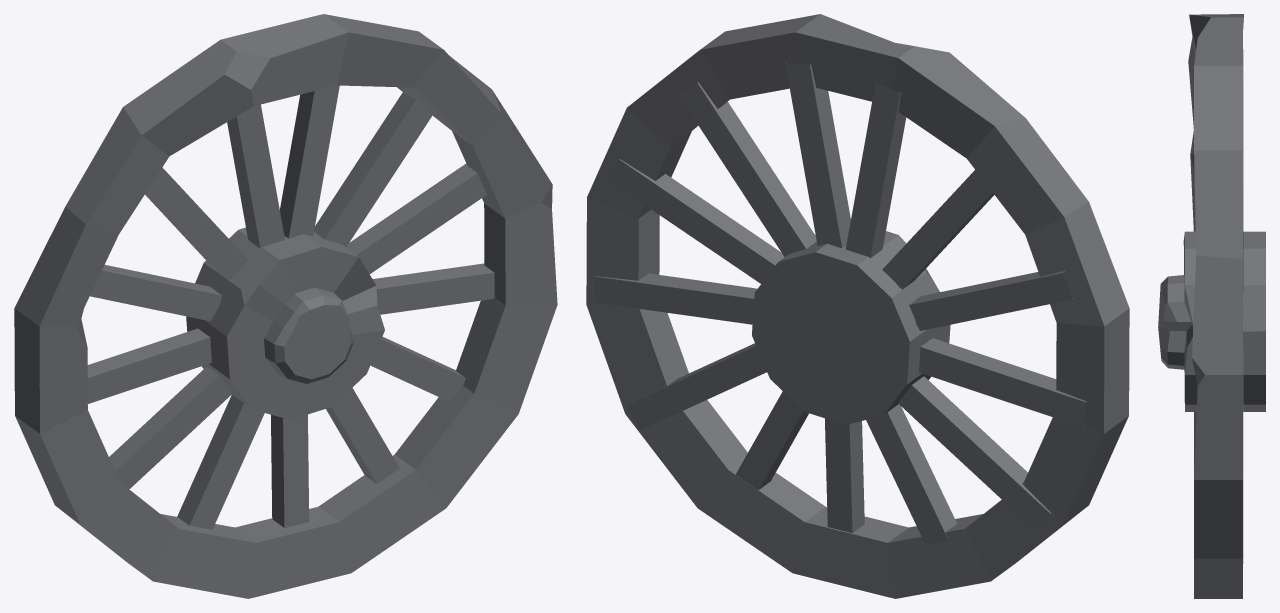
File: Medieval Wheel_1.fbx
The picture shows the model from 3 angles, left to right: view 1: azimuth 30°, elevation 25°; view 2: azimuth 150°, elevation 25°; view 3: azimuth 270°, elevation 25°; orthographic projection. The views are drawn at different scales.
Parts seen in each view (by area): view 1: Medieval Wheel_1; view 2: Medieval Wheel_1; view 3: Medieval Wheel_1.
Part boxes in pixels (<box>): Medieval Wheel_1: <box>14,14,557,598</box>; Medieval Wheel_1: <box>586,14,1129,598</box>; Medieval Wheel_1: <box>1158,14,1265,598</box>.
Size of the model in its own units: 152 by 152 by 28.14.
